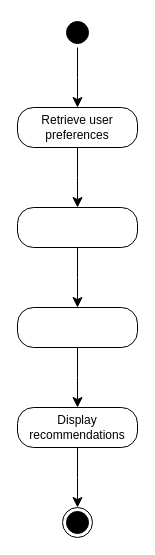
Image size: 155x555. Some labels were removed from this diagram. Here are the shapes that lost their labels. From the top down, the centre of each, then its label:
the point at 77,227: Generate Recommendations
the point at 77,327: Sort by relevance
